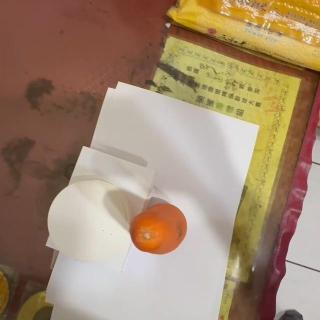carrot: (128, 202, 186, 256)
